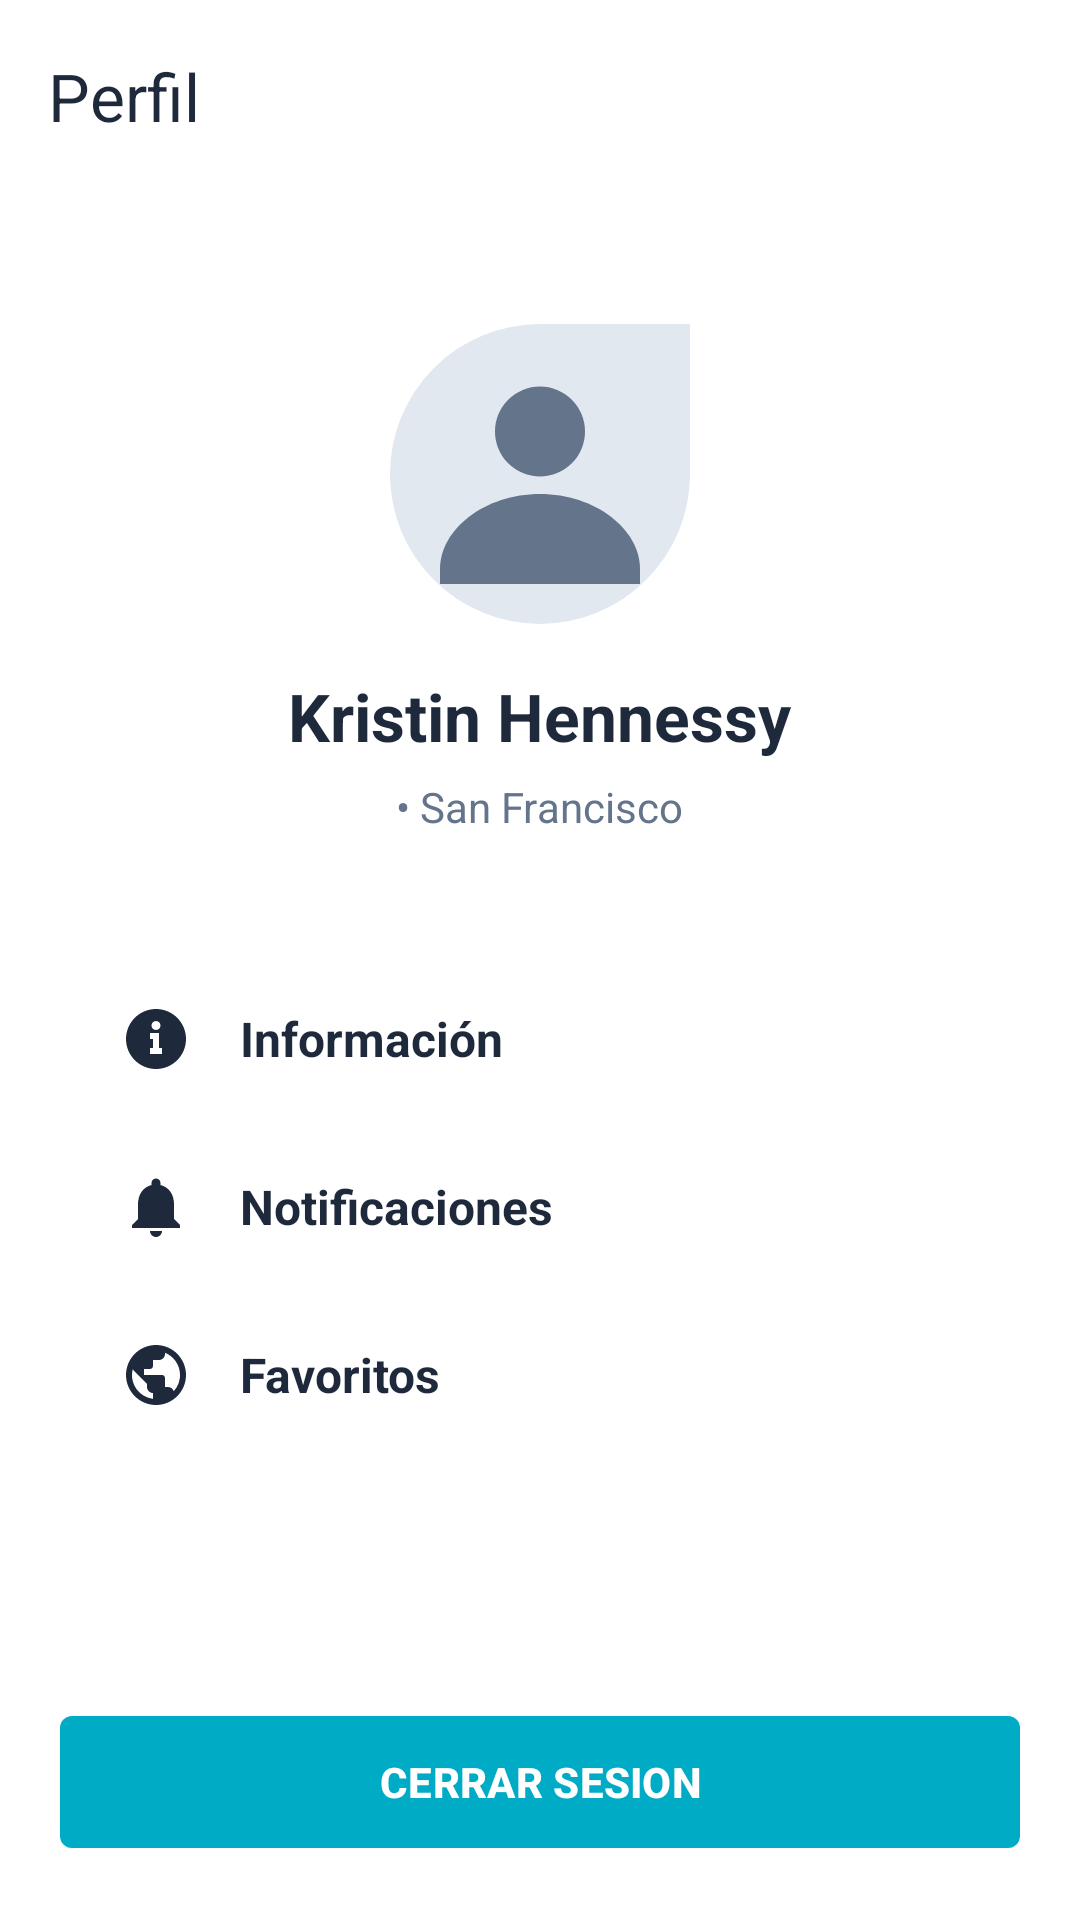

Icon click points for this 1080w x 1920h phone screenshot, format [x,y]:
Foto de Perfil: [540,474]
